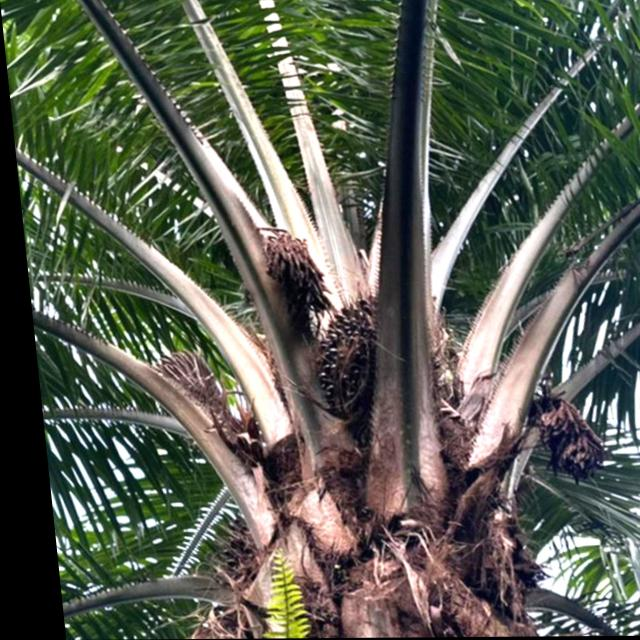almost: (299, 297, 398, 429)
